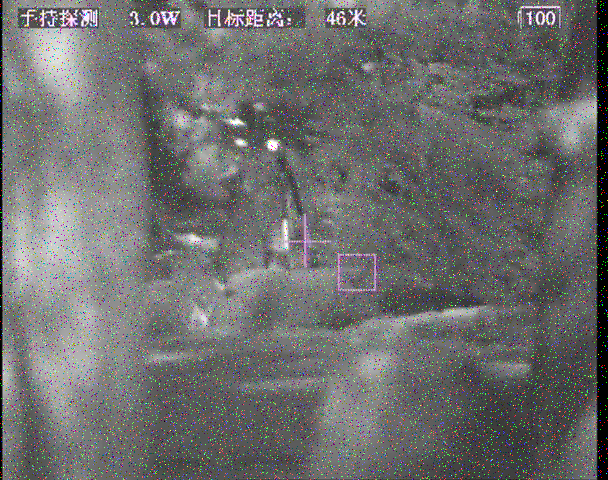my: (266, 137, 280, 151)
